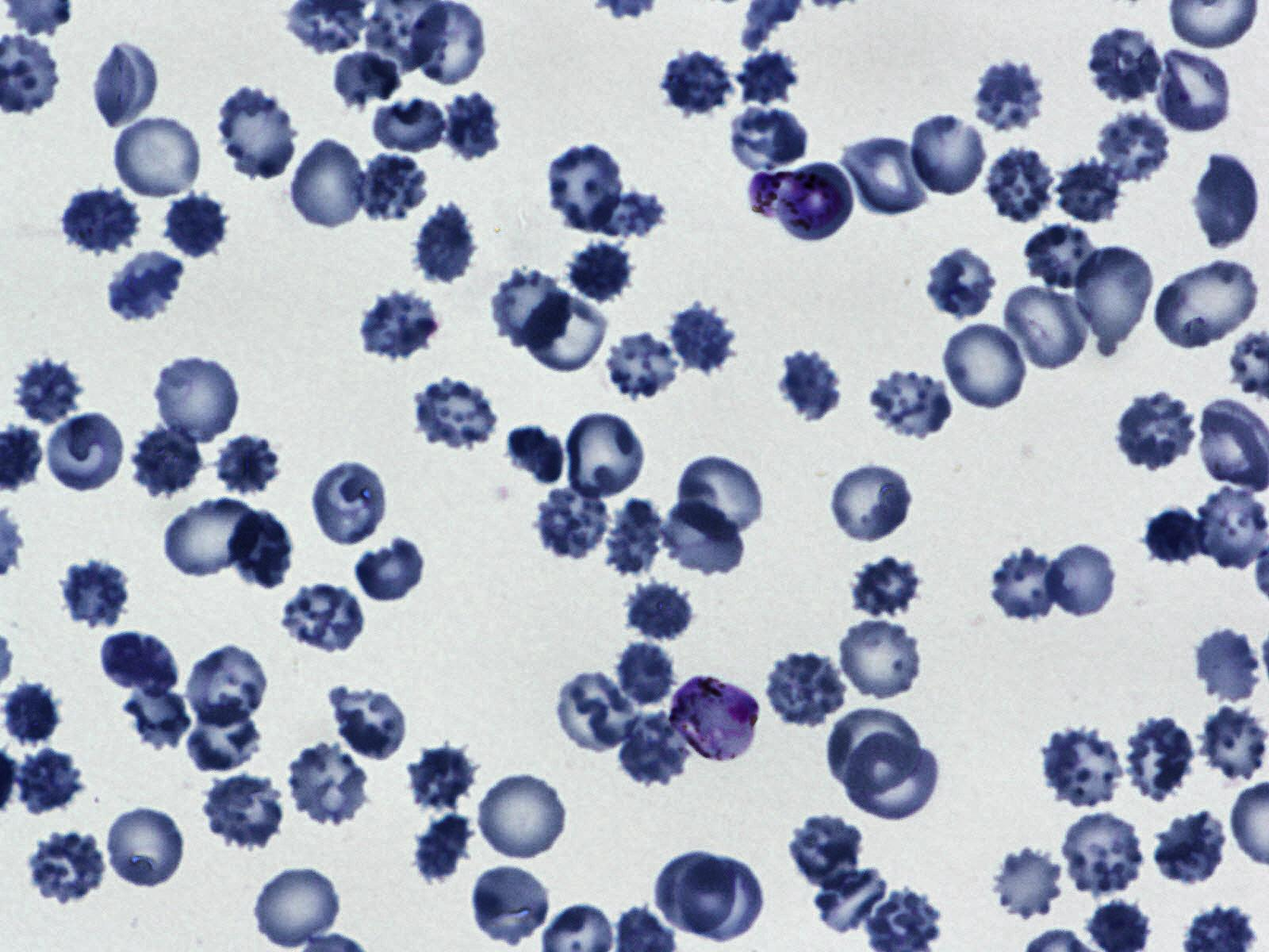Infected: (669, 675, 761, 766), (747, 167, 846, 230)
Uninfected: (1153, 257, 1263, 354), (1070, 244, 1152, 353), (151, 350, 243, 447), (475, 770, 571, 862), (110, 110, 205, 202), (828, 702, 919, 798), (941, 318, 1032, 413), (162, 495, 263, 580), (999, 285, 1095, 374), (836, 614, 929, 704), (673, 454, 767, 543), (845, 730, 936, 820), (562, 409, 647, 501), (840, 134, 933, 218), (542, 140, 628, 230), (251, 863, 342, 948), (284, 741, 376, 825), (213, 90, 297, 182), (1059, 810, 1148, 896), (184, 643, 272, 729), (489, 265, 575, 353), (468, 862, 553, 950), (289, 137, 368, 231), (905, 109, 989, 197), (659, 494, 747, 578), (676, 858, 764, 942), (1152, 45, 1234, 135), (829, 460, 916, 544), (1190, 152, 1263, 251), (105, 805, 186, 892), (278, 579, 373, 653), (1121, 714, 1199, 804), (521, 292, 606, 374), (308, 459, 385, 549), (45, 410, 126, 495), (198, 772, 286, 850), (655, 851, 736, 935), (1114, 389, 1197, 470), (412, 374, 500, 450), (1041, 727, 1122, 809), (1085, 21, 1166, 103), (985, 546, 1068, 626), (762, 653, 851, 727), (325, 680, 408, 759), (1091, 106, 1175, 184), (409, 1, 487, 85), (556, 672, 636, 752), (776, 162, 854, 244), (358, 286, 444, 360), (531, 483, 613, 559), (182, 697, 264, 773), (93, 38, 162, 128), (922, 247, 1001, 324), (1199, 484, 1269, 570), (414, 198, 482, 286), (52, 188, 140, 256), (727, 105, 812, 175), (865, 372, 952, 440), (1018, 223, 1104, 291), (1187, 624, 1260, 704), (984, 148, 1061, 223), (1153, 809, 1227, 887), (604, 328, 684, 400), (52, 553, 128, 628), (131, 424, 207, 498), (788, 815, 865, 888), (1046, 543, 1118, 620), (772, 349, 844, 426), (10, 743, 85, 816), (9, 355, 86, 426), (27, 832, 104, 903), (658, 46, 737, 115), (811, 865, 890, 934), (355, 152, 431, 223), (1052, 155, 1129, 224), (845, 554, 925, 620), (355, 534, 429, 605), (612, 638, 686, 709), (1201, 703, 1266, 783), (990, 846, 1059, 921), (621, 577, 698, 641), (605, 495, 664, 578), (974, 60, 1042, 132), (98, 633, 178, 694), (227, 510, 290, 585), (619, 718, 689, 785), (406, 744, 476, 811), (121, 682, 191, 749), (370, 95, 447, 153), (113, 251, 180, 317), (412, 811, 474, 882), (671, 303, 734, 370), (442, 89, 500, 160), (332, 49, 404, 106), (166, 189, 228, 255), (1, 680, 63, 746), (570, 238, 633, 302), (216, 432, 279, 493), (1141, 505, 1206, 563), (737, 49, 799, 107), (587, 191, 665, 236), (505, 425, 565, 483)
